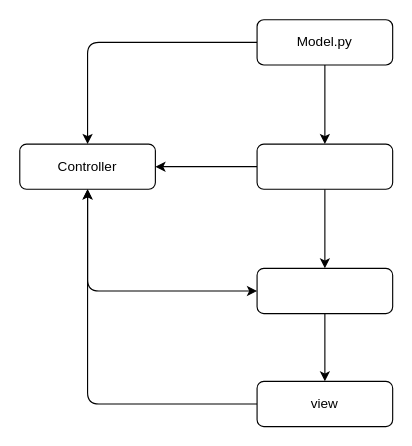
Image size: 412x446. Some labels were removed from this diagram. Here are the shapes that lost their labels. From the top down, the centre of each, then its label:
point 324,166: Блок операций
point 324,290: main.py
